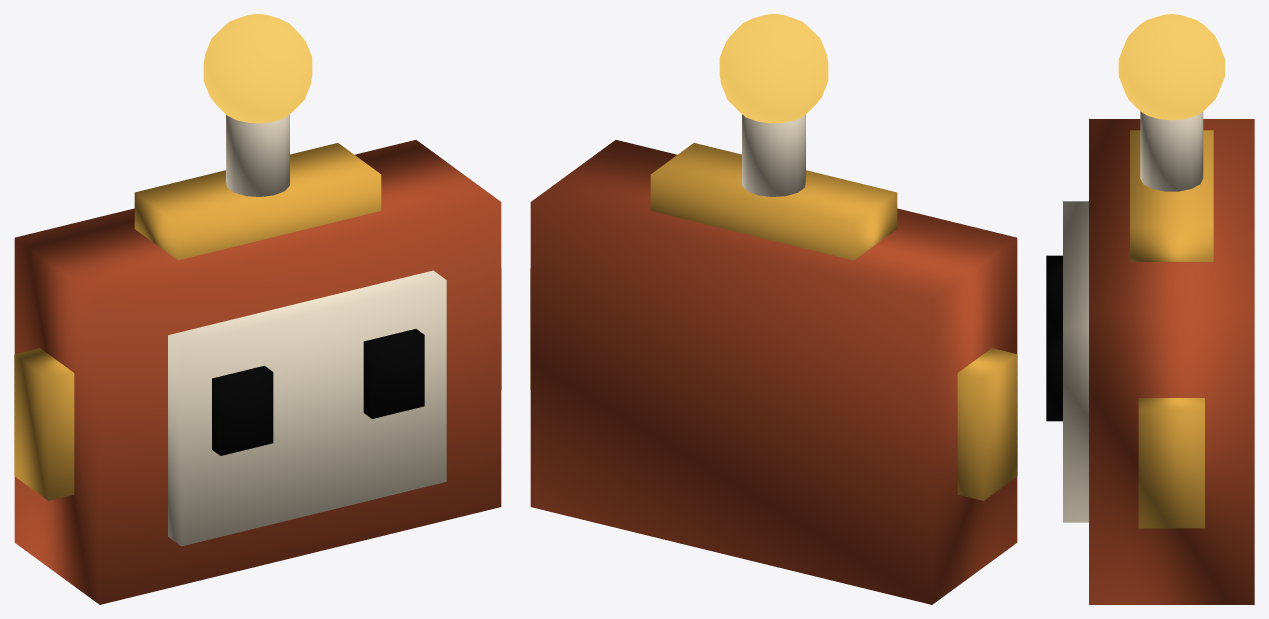
Rendered from bot-face.glb.
3 views of the same model, side by side, from view 1: azimuth 30°, elevation 25°; view 2: azimuth 150°, elevation 25°; view 3: azimuth 270°, elevation 25° (orthographic). The views are drawn at different scales.
Parts seen in each view (by area): view 1: Cube, Cube.001, Cube.002, Cube.003, Sphere, Cube.004, Cylinder; view 2: Cube, Cube.002, Sphere, Cube.004, Cylinder; view 3: Cube, Sphere, Cube.004, Cube.001, Cube.002, Cylinder, Cube.003.
Part boxes in pixels (box(x1,y1,x2,y2)): Cube: box(14, 140, 501, 604); Cube.001: box(168, 270, 446, 546); Cube.002: box(134, 143, 381, 260); Cube.003: box(212, 329, 424, 455); Sphere: box(203, 14, 312, 123); Cube.004: box(14, 268, 501, 500); Cylinder: box(226, 114, 289, 196); Cube: box(530, 140, 1017, 604); Cube.002: box(650, 143, 897, 260); Sphere: box(719, 14, 828, 123); Cube.004: box(530, 268, 1017, 500); Cylinder: box(742, 114, 805, 196); Cube: box(1089, 119, 1254, 604); Sphere: box(1118, 14, 1224, 120); Cube.004: box(1138, 398, 1204, 528); Cube.001: box(1063, 201, 1088, 522); Cube.002: box(1130, 130, 1213, 261); Cylinder: box(1140, 111, 1203, 191); Cube.003: box(1046, 255, 1062, 421).
Bounding box in the file's own units: 2.26 × 2.41 × 0.9256.
